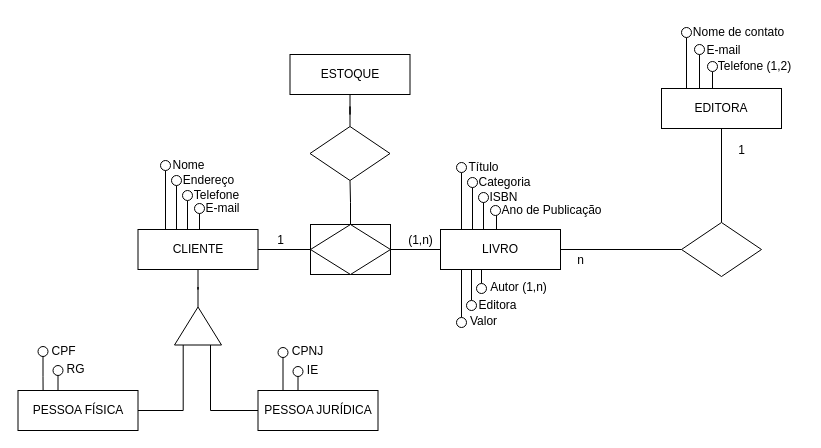
The diagram is 821 pixels wide and 448 high, and some of its shapes have lost their labels. Each missing label, with the centre of its shape:
COMPRA: [350,249]
FORNECE: [721,249]
VERIFICA: [349,153]
